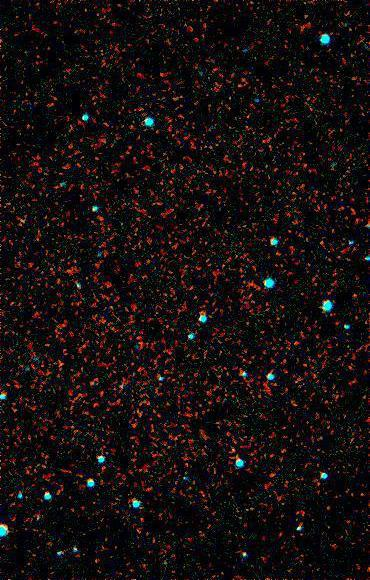star: (210, 435, 240, 465)
